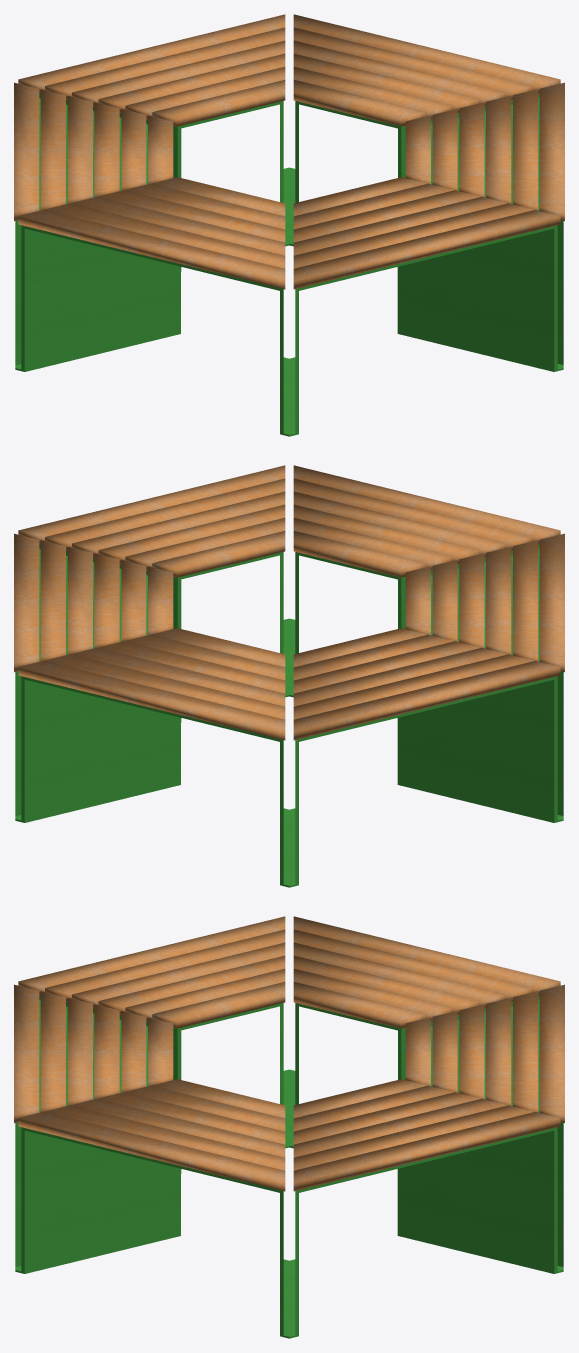
The model's file is eraund6_.glb.
3 renders of one model, top to bottom at view 1: azimuth 30°, elevation 25°; view 2: azimuth 150°, elevation 25°; view 3: azimuth 270°, elevation 25°, orthographic.
Visible parts, largest first — view 1: Geom3D (×18); view 2: Geom3D (×18); view 3: Geom3D (×18).
Part boxes in pixels (box(x1,y1,x2,y2)): Geom3D (×18): box(14, 14, 564, 436); Geom3D (×18): box(14, 465, 564, 887); Geom3D (×18): box(14, 916, 564, 1338).
Bounding box in the file's own units: 1.7 × 0.46 × 1.48.
2 materials, 2 textured.
